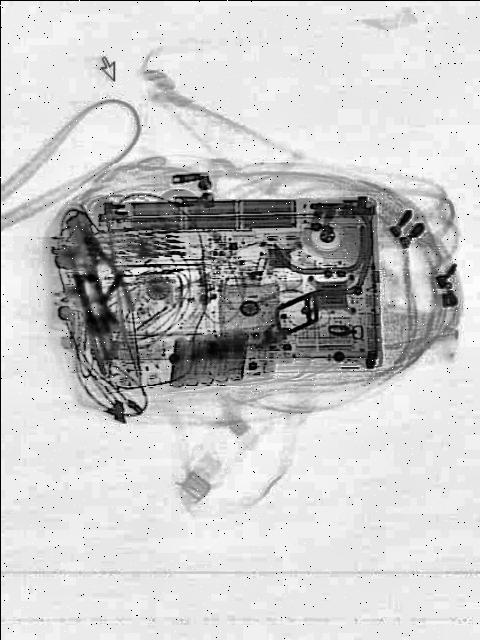Pliers: (68, 217, 140, 331)
